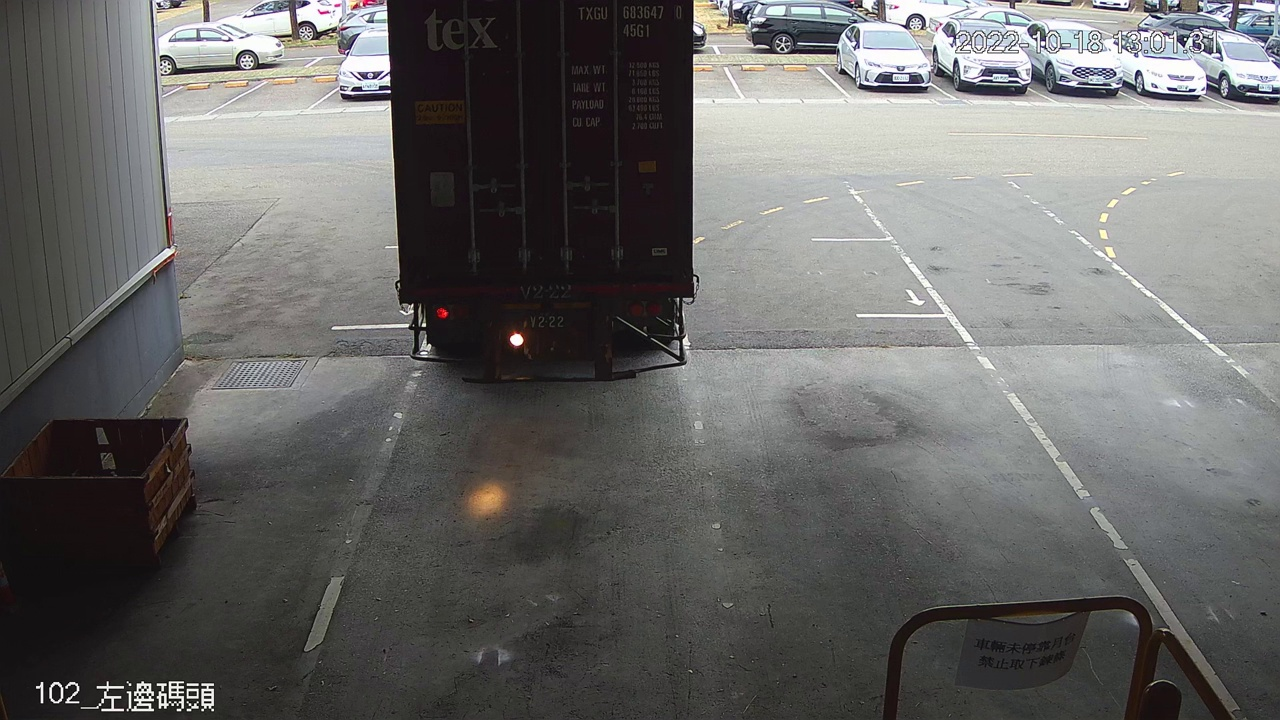container: (575, 1, 689, 43)
